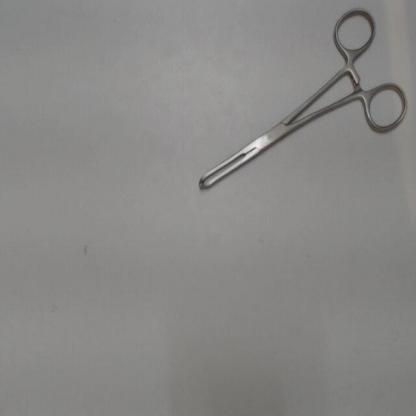Allis Tissue Forceps: (191, 3, 412, 197)
